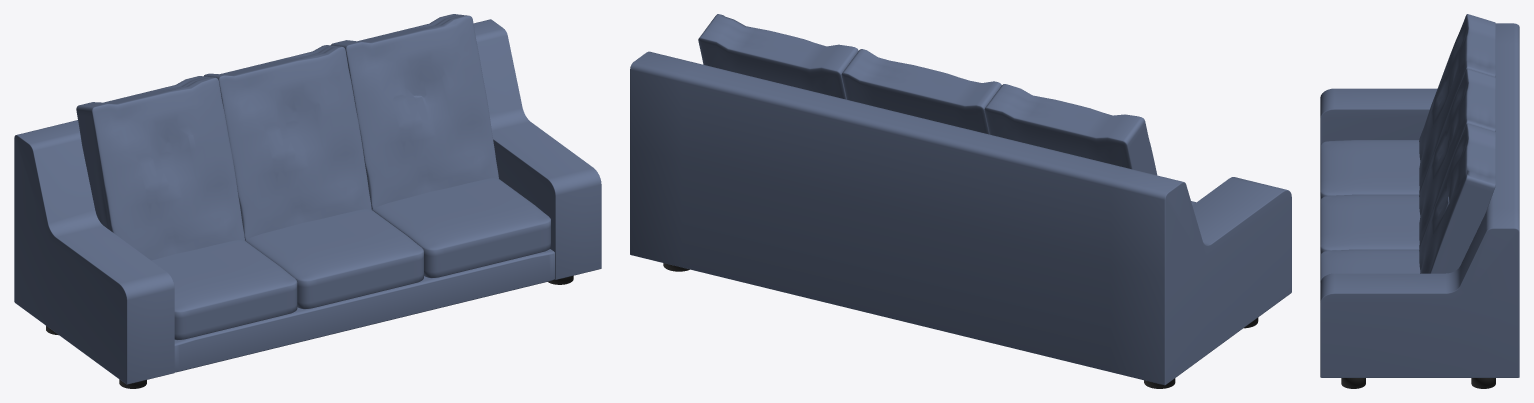
Rendered from sofa2_ver2.glb.
The picture shows the model from 3 angles, left to right: view 1: azimuth 30°, elevation 25°; view 2: azimuth 150°, elevation 25°; view 3: azimuth 270°, elevation 25°; orthographic projection. The views are drawn at different scales.
Parts seen in each view (by area): view 1: Cube, Cube.003, Cube.007, Cube.005, Cube.001, Cube.006, Cube.004, Cube.002; view 2: Cube, Cube.003, Cube.007, Cube.005; view 3: Cube, Cube.007, Cube.004, Cube.002, Cube.005, Cube.003, Cube.006, Cylinder.001.
Boxes of the visible parts, <box> form: Cube: <box>14,19,601,384</box>; Cube.003: <box>76,76,244,260</box>; Cube.007: <box>331,14,498,209</box>; Cube.005: <box>204,45,371,240</box>; Cube.001: <box>174,249,554,372</box>; Cube.006: <box>371,178,550,278</box>; Cube.004: <box>245,209,423,309</box>; Cube.002: <box>151,240,297,340</box>; Cube: <box>630,51,1291,385</box>; Cube.003: <box>984,84,1157,175</box>; Cube.007: <box>698,14,858,99</box>; Cube.005: <box>841,49,1001,134</box>; Cube: <box>1320,23,1519,377</box>; Cube.007: <box>1419,123,1495,273</box>; Cube.004: <box>1320,194,1420,254</box>; Cube.002: <box>1320,140,1420,199</box>; Cube.005: <box>1419,68,1495,248</box>; Cube.003: <box>1419,14,1495,193</box>; Cube.006: <box>1320,249,1420,282</box>; Cylinder.001: <box>1341,378,1495,388</box>.
Bounding box in the file's own units: 2.05 × 0.9177 × 0.8439.
